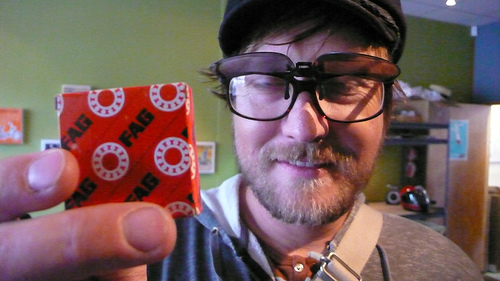without_mask: (225, 31, 397, 229)
